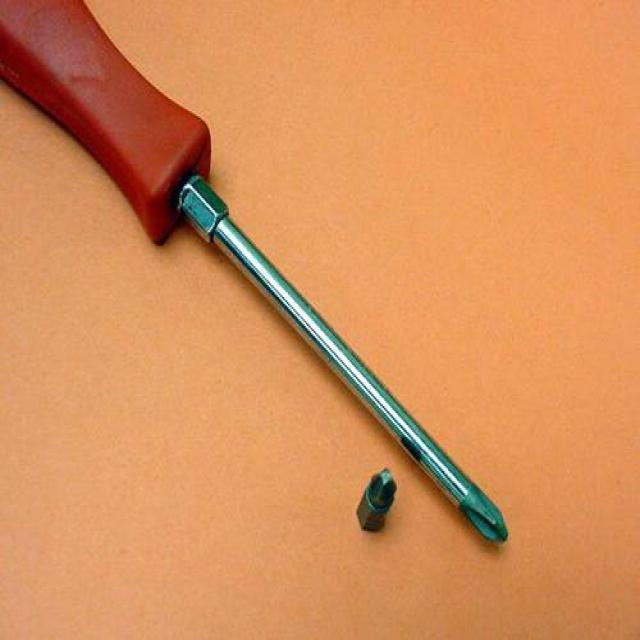screw driver: (1, 0, 566, 599)
